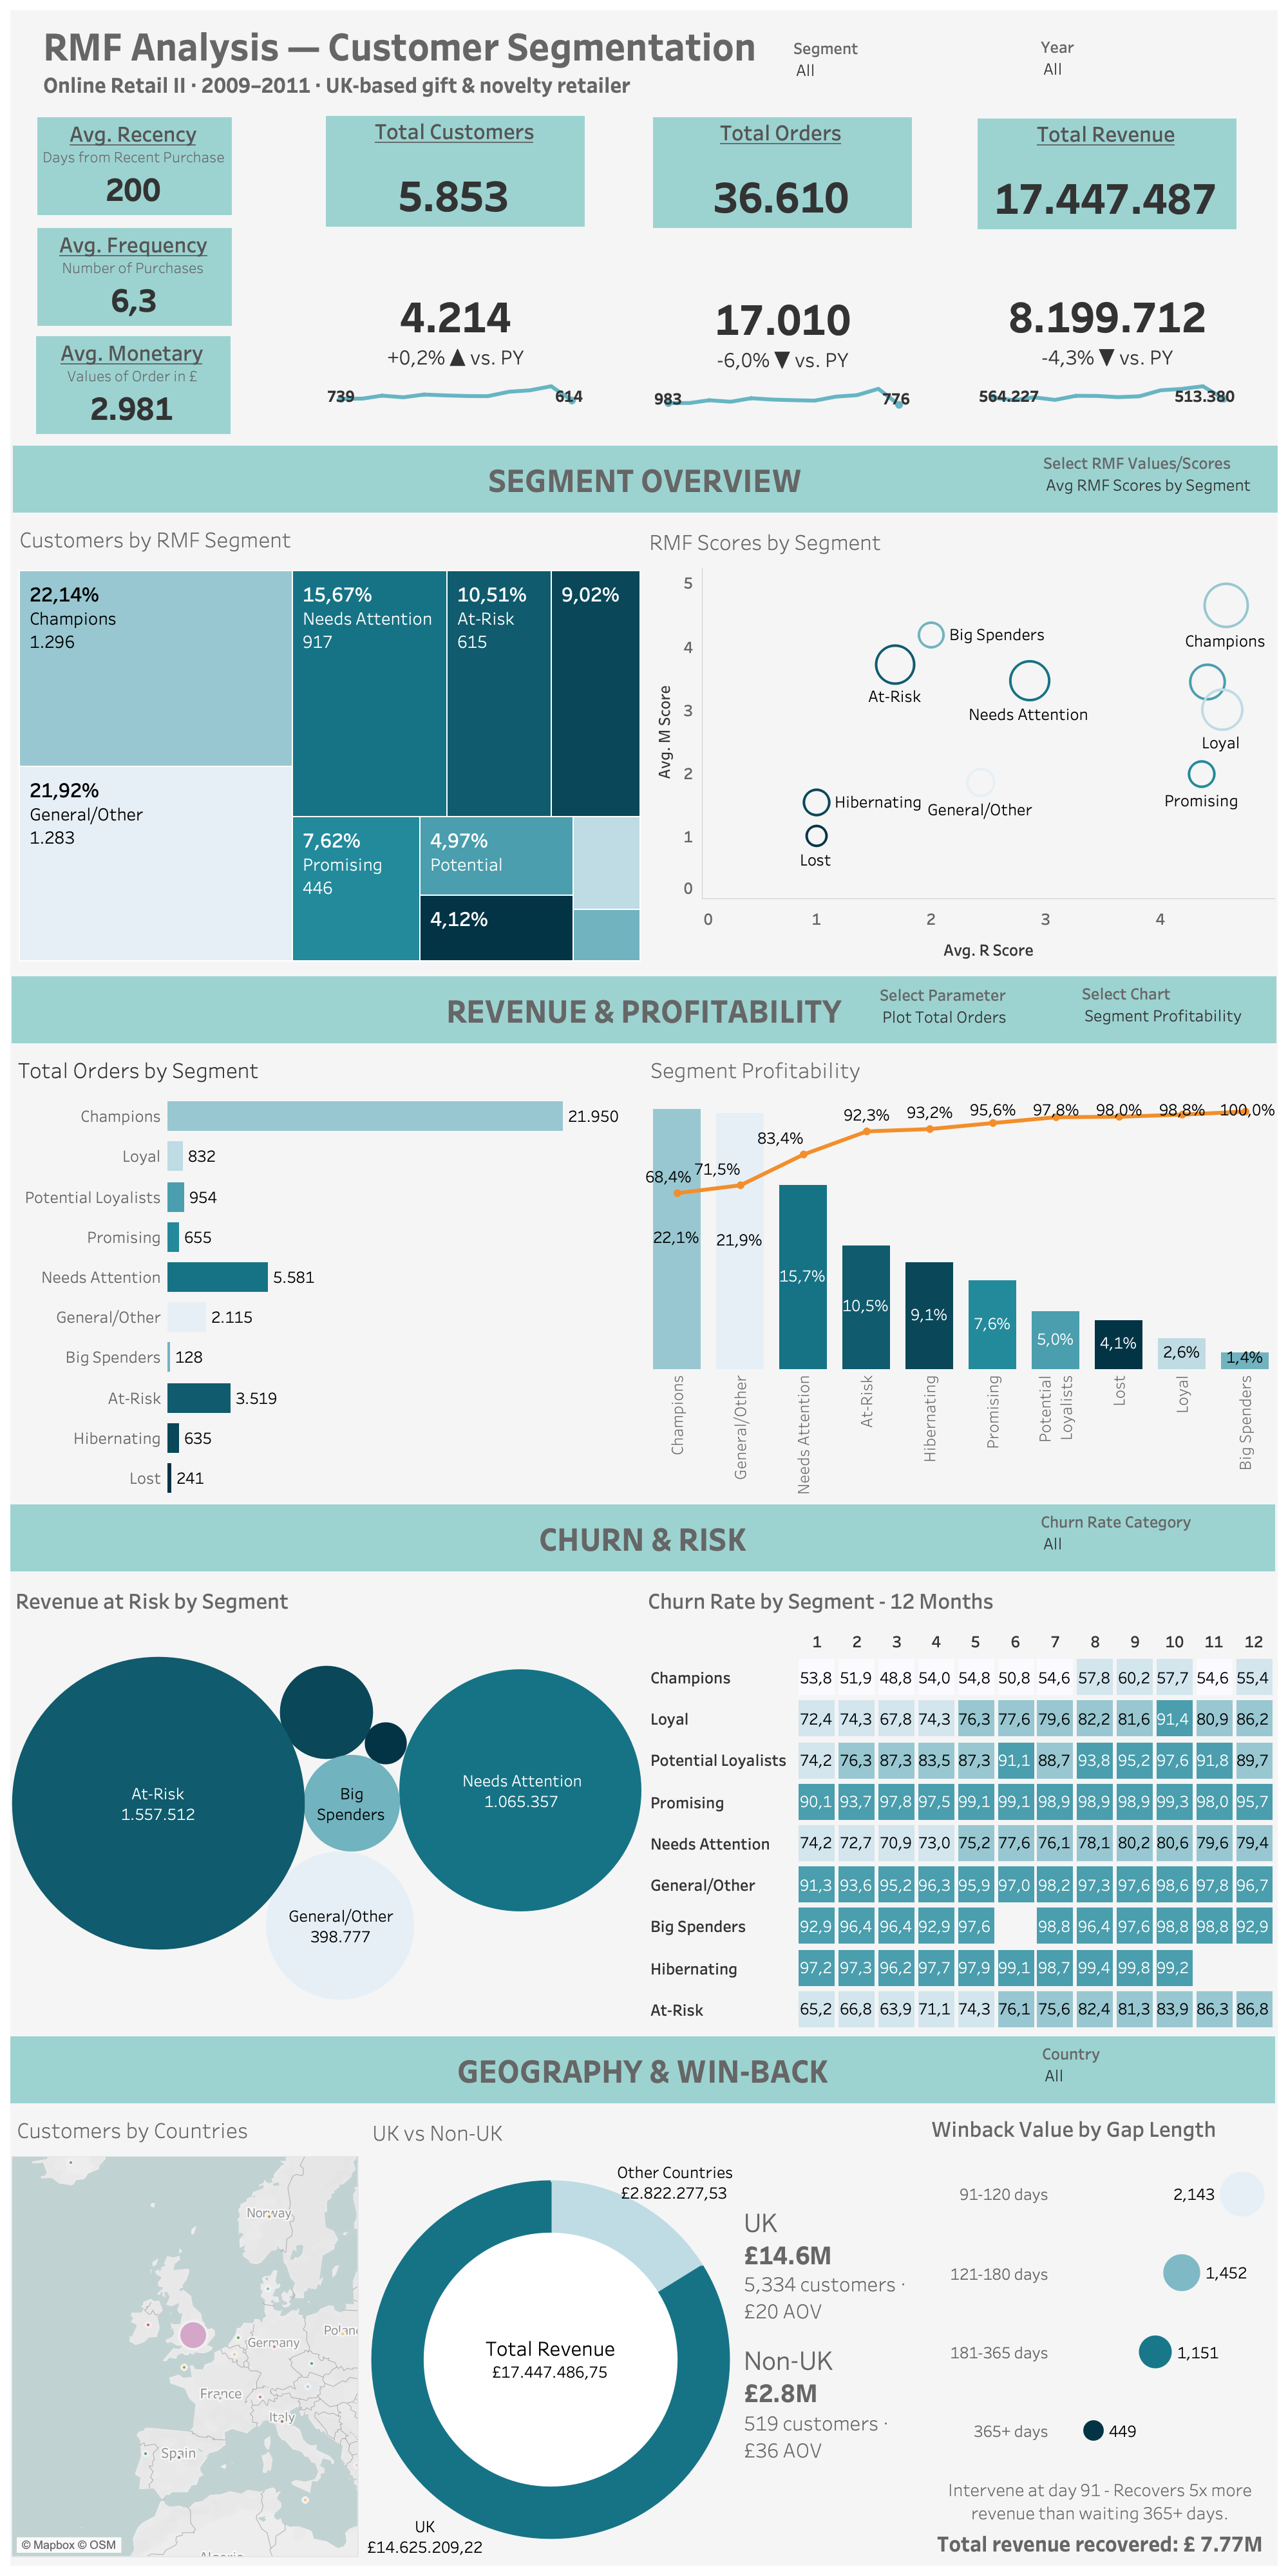

This screenshot's page, from the dashboard's own definition file:
{"tool":"tableau","page":{"name":"RMFAnalysis Dashboard","canvas":[1000,2000],"ordinal":0},"visuals":[{"type":"text","box":[30.6,14,957.3,64.7]},{"type":"filter","title":"Customer Number by Segment","param":"[federated.0dqhiro10sj2xa1esg9tx1ptpyhj].[yr:invoice_date (cleaned_retail_main.c","box":[808,27,180,42]},{"type":"filter","title":"Customer Number by Segment","param":"[federated.0dqhiro10sj2xa1esg9tx1ptpyhj].[none:customer_segment (customer_rfm_se","box":[616,28,180,42]},{"type":"worksheet","title":"Total Customers ","mark":"Automatic","box":[253,90,200,85]},{"type":"worksheet","title":"Avg. Recency","mark":"Automatic","box":[29,91,150,75]},{"type":"worksheet","title":"Total Orders","mark":"Automatic","box":[507,91,200,85]},{"type":"worksheet","title":"Total Revenue","mark":"Automatic","box":[759,92,200,85]},{"type":"worksheet","title":"Avg. Frequency","mark":"Automatic","box":[29,177,150,75]},{"type":"worksheet","title":"Customers over 12 Months ","mark":"Automatic","rows":["customer_id (cleaned_retail_main.csv)"],"cols":["invoice_date (cleaned_retail_main.csv)"],"box":[254,217,200,100]},{"type":"worksheet","title":"Revenue over 12 Months","mark":"Automatic","rows":["total_price"],"cols":["invoice_date (cleaned_retail_main.csv)"],"box":[760,217,200,100]},{"type":"worksheet","title":"Orders over 12 Months ","mark":"Automatic","rows":["invoice (cleaned_retail_main.csv)"],"cols":["invoice_date (cleaned_retail_main.csv)"],"box":[508,219,200,100]},{"type":"worksheet","title":"Avg. Monetary","mark":"Automatic","box":[28,261,150,75]},{"type":"text","box":[10,346,982,52]},{"type":"parameter","param":"[Parameters].[Parameter 1]","box":[810,350,180,44]},{"type":"worksheet","title":"Customer Number by Segment","mark":"Automatic","box":[11,401,490,350]},{"type":"worksheet","title":"Avg RMF Values by Segment","mark":"Automatic","rows":["monetary"],"cols":["recency_days"],"box":[501,401,490,350]},{"type":"worksheet","title":"Avg RMF Scores by Segment","mark":"Automatic","rows":["m_score"],"cols":["r_score"],"box":[500,403,490,350]},{"type":"text","box":[9,758,982,52]},{"type":"parameter","param":"[Parameters].[Parameter 2]","box":[683,762,150,42]},{"type":"parameter","param":"[Parameters].[Parameter 3]","box":[840,762,150,42]},{"type":"worksheet","title":"Average Revenue by Segment","mark":"Automatic","rows":["customer_segment (customer_rfm_segmentation_summary.csv)"],"cols":["avg_monetary"],"box":[9,812,490,350]},{"type":"worksheet","title":"Total Revenue by Segment","mark":"Automatic","rows":["customer_segment (segment_yield_and_profitability.csv)"],"cols":["segment_revenue"],"box":[10,813,490,350]},{"type":"worksheet","title":"Pareto Curve","mark":"Line","rows":["pct_of_total_revenue"],"cols":["pct_of_customer_base"],"box":[500,813,490,350]},{"type":"worksheet","title":"Segment Profitability ","mark":"Automatic","rows":["pct_of_customer_base","segment_revenue"],"cols":["customer_segment (segment_yield_and_profitability.csv)"],"box":[501,813,490,350]},{"type":"worksheet","title":"CLV by Segment","mark":"Automatic","rows":["customer_segment (predictive_clv_analysis.csv)"],"cols":["predicted_clv"],"box":[9,814,490,350]},{"type":"worksheet","title":"AOV by Segment ","mark":"Automatic","rows":["customer_segment (predictive_clv_analysis.csv)"],"cols":["aov"],"box":[11,814,490,350]},{"type":"worksheet","title":"Total Orders by Segment","mark":"Automatic","rows":["customer_segment (customer_rfm_segmentation_summary.csv1)"],"cols":["total_orders"],"box":[9,815,490,350]},{"type":"text","box":[8,1168,982,52]},{"type":"filter","title":"Churn rate by Segment over 12 Months","param":"[federated.0dqhiro10sj2xa1esg9tx1ptpyhj].[none:Calculation_2711523285372958:nk]","box":[808,1172,180,42]},{"type":"worksheet","title":"Revenue at Risk by Segment","mark":"Circle","box":[8,1226,490,350]},{"type":"worksheet","title":"Churn rate by Segment over 12 Months","mark":"Square","rows":["customer_segment (retention_rates_by_rfm_segments.csv)"],"cols":["month_number"],"box":[499,1226,490,350]},{"type":"text","box":[8,1581,982,52]},{"type":"filter","title":"Customers by Countries","param":"[federated.0dqhiro10sj2xa1esg9tx1ptpyhj].[none:country (cleaned_retail_main.csv)","box":[809,1585,180,44]},{"type":"worksheet","title":"Customers by Countries","mark":"Automatic","box":[9,1636,270,350]},{"type":"worksheet","title":"Winback Value by Gap Length","mark":"Circle","rows":["gap_bucket"],"cols":["avg_revenue_after_winback"],"box":[719,1636,270,282]},{"type":"worksheet","title":"Total Revenue UK vs Others","mark":"Pie","rows":["Calculation_2711522637090822","Calculation_2711522637090822"],"box":[285,1638,285,350]},{"type":"text","box":[575,1639,141,350]},{"type":"text","box":[719,1920,270,70]}]}

Visuals, with their boxes in screenshot pixels (x1, y1, x2, y2), scaled from the page's 1000x2000 canvas onto the 1288x2576 screenshot:
text: [39,18,1273,101]
"Customer Number by Segment" filter: [1041,35,1273,89]
"Customer Number by Segment" filter: [793,36,1025,90]
"Total Customers " worksheet: [326,116,583,225]
"Avg. Recency" worksheet: [37,117,231,214]
"Total Orders" worksheet: [653,117,911,227]
"Total Revenue" worksheet: [978,118,1235,228]
"Avg. Frequency" worksheet: [37,228,231,325]
"Customers over 12 Months " worksheet: [327,279,585,408]
"Revenue over 12 Months" worksheet: [979,279,1236,408]
"Orders over 12 Months " worksheet: [654,282,912,411]
"Avg. Monetary" worksheet: [36,336,229,433]
text: [13,446,1278,513]
parameter: [1043,451,1275,507]
"Customer Number by Segment" worksheet: [14,516,645,967]
"Avg RMF Values by Segment" worksheet: [645,516,1276,967]
"Avg RMF Scores by Segment" worksheet: [644,519,1275,970]
text: [12,976,1276,1043]
parameter: [880,981,1073,1036]
parameter: [1082,981,1275,1036]
"Average Revenue by Segment" worksheet: [12,1046,643,1497]
"Total Revenue by Segment" worksheet: [13,1047,644,1498]
"Pareto Curve" worksheet (Line marks): [644,1047,1275,1498]
"Segment Profitability " worksheet: [645,1047,1276,1498]
"CLV by Segment" worksheet: [12,1048,643,1499]
"AOV by Segment " worksheet: [14,1048,645,1499]
"Total Orders by Segment" worksheet: [12,1050,643,1501]
text: [10,1504,1275,1571]
"Churn rate by Segment over 12 Months" filter: [1041,1510,1273,1564]
"Revenue at Risk by Segment" worksheet (Circle marks): [10,1579,641,2030]
"Churn rate by Segment over 12 Months" worksheet (Square marks): [643,1579,1274,2030]
text: [10,2036,1275,2103]
"Customers by Countries" filter: [1042,2041,1274,2098]
"Customers by Countries" worksheet: [12,2107,359,2558]
"Winback Value by Gap Length" worksheet (Circle marks): [926,2107,1274,2470]
"Total Revenue UK vs Others" worksheet (Pie marks): [367,2110,734,2561]
text: [741,2111,922,2562]
text: [926,2473,1274,2563]
